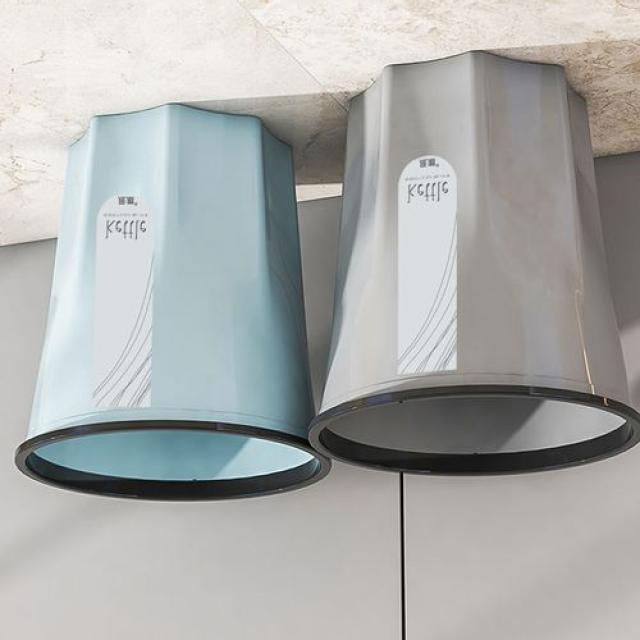dustbin: (306, 50, 640, 485), (14, 103, 334, 507)
